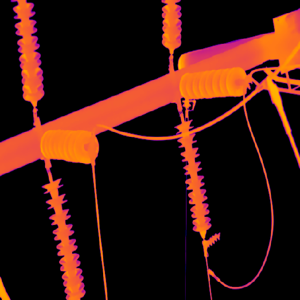insulator: (38, 174, 85, 300), (175, 119, 212, 231), (11, 0, 45, 103), (177, 64, 248, 99), (38, 128, 98, 165), (161, 0, 182, 47)
